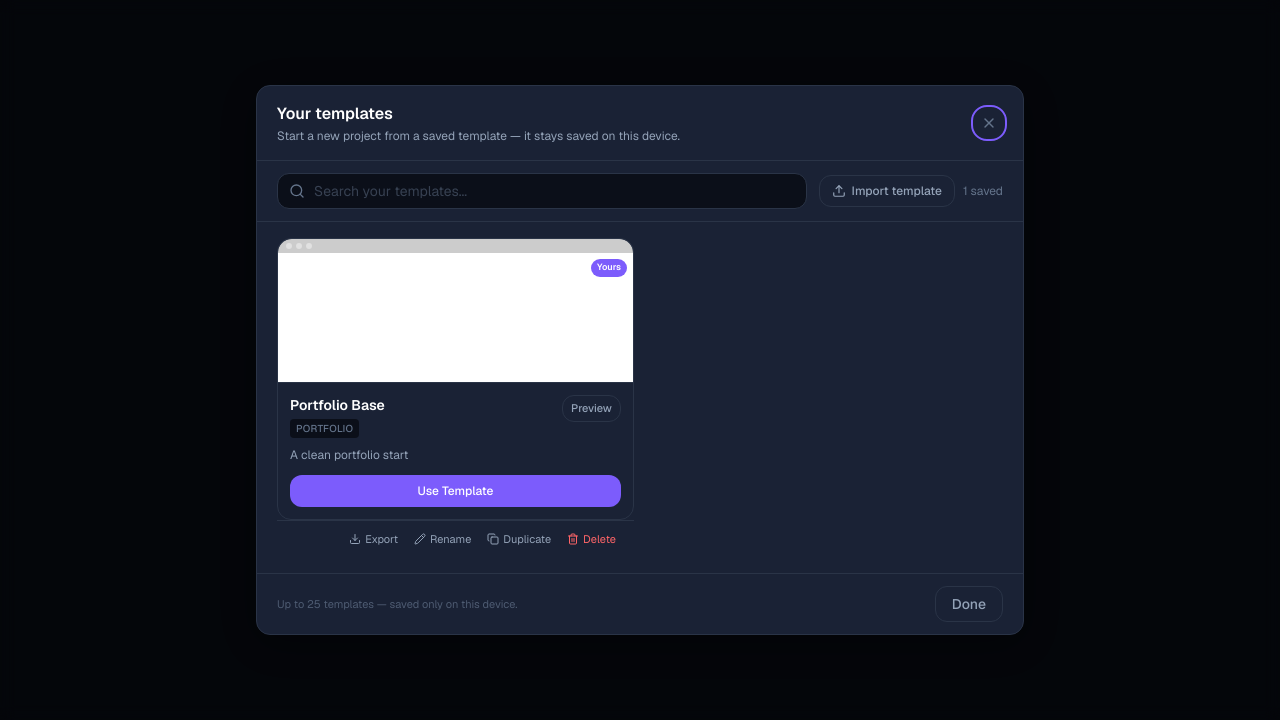
it: PersonalTemplatesPanel › duplicates a template through the service
The width and height of the screenshot is (1280, 720).
Expected: the number of elements with test id "personal-template-card" is 1, [277,238,634,557]
Click the button with aria-label "Duplicate Portfolio Base": [519, 539] box [481,527,557,551]
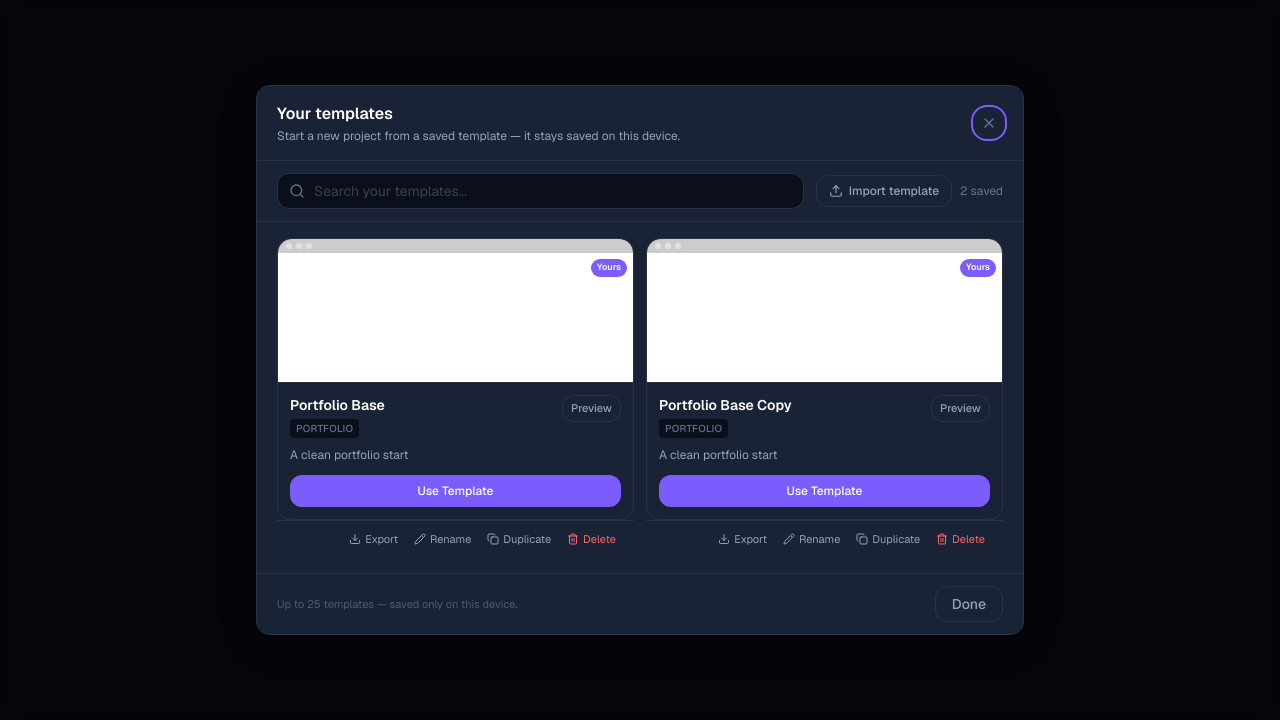
Expected: the number of elements with test id "personal-template-card" is 2, [277,238,634,557]; [646,238,1003,557]
